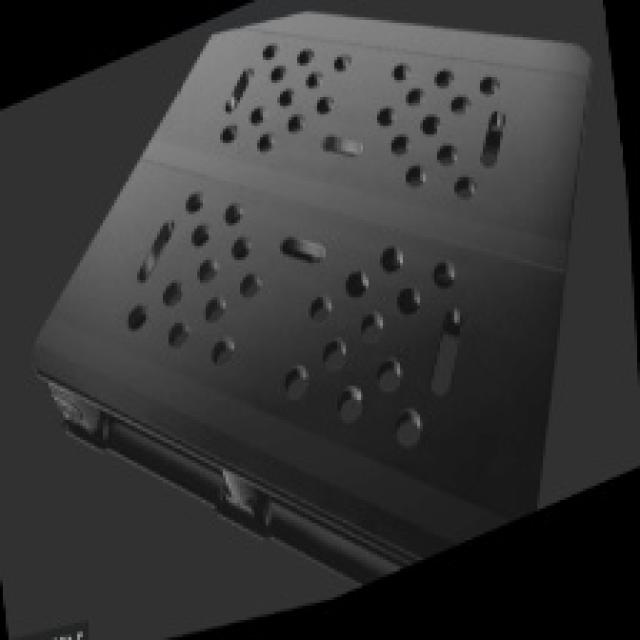igps: (21, 0, 608, 595)
